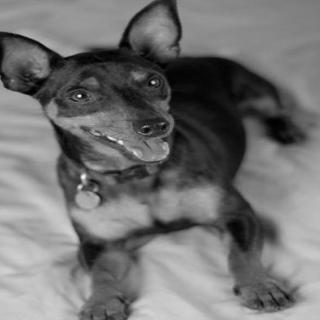dog: (0, 7, 227, 187)
nose: (139, 115, 170, 139)
